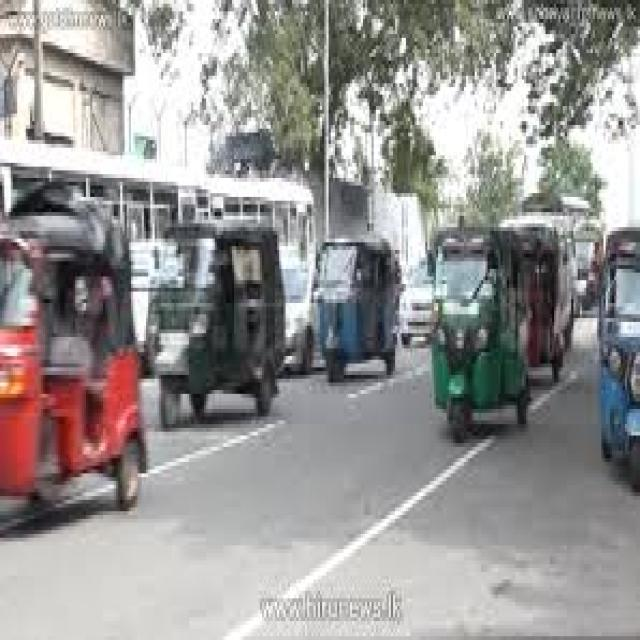bus: (0, 140, 314, 367)
car: (402, 265, 432, 345)
three wheeler: (0, 186, 144, 511), (148, 227, 283, 428), (434, 231, 528, 439), (318, 242, 397, 382), (599, 227, 638, 489), (513, 223, 569, 382)
